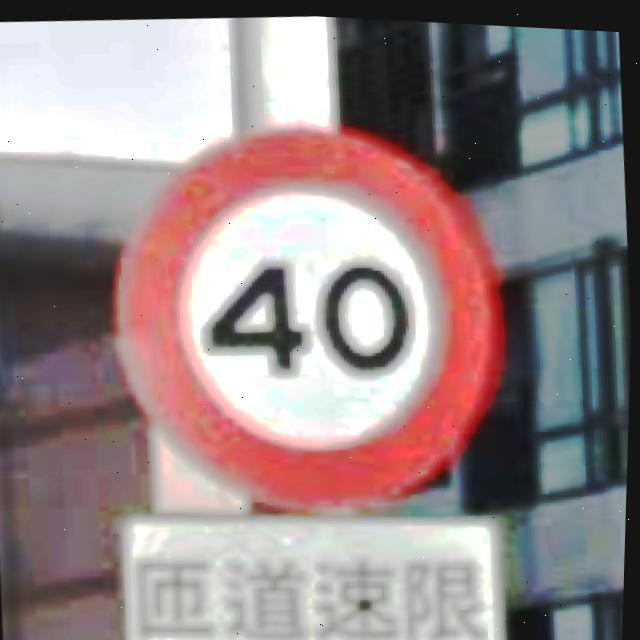max40: (94, 95, 526, 531)
